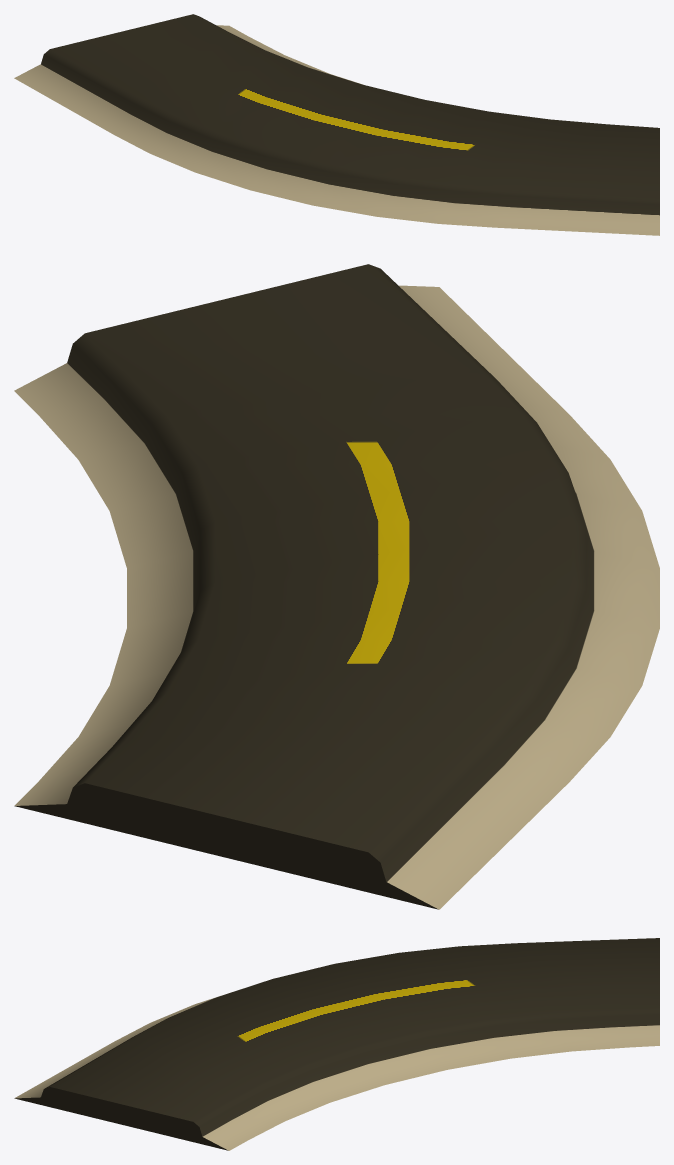
File: Hillside_Road01.fbx
The picture shows the model from 3 angles, top to bottom: view 1: azimuth 30°, elevation 25°; view 2: azimuth 150°, elevation 25°; view 3: azimuth 270°, elevation 25°; orthographic projection. The views are drawn at different scales.
Parts seen in each view (by area): view 1: Raod01; view 2: Raod01; view 3: Raod01.
Boxes of the visible parts, x1,y1,x2,y2 form: Raod01: [14, 14, 659, 235]; Raod01: [14, 264, 659, 909]; Raod01: [14, 938, 659, 1150].
Bounding box in the file's own units: 0.6 × 0.0318 × 0.7794.
